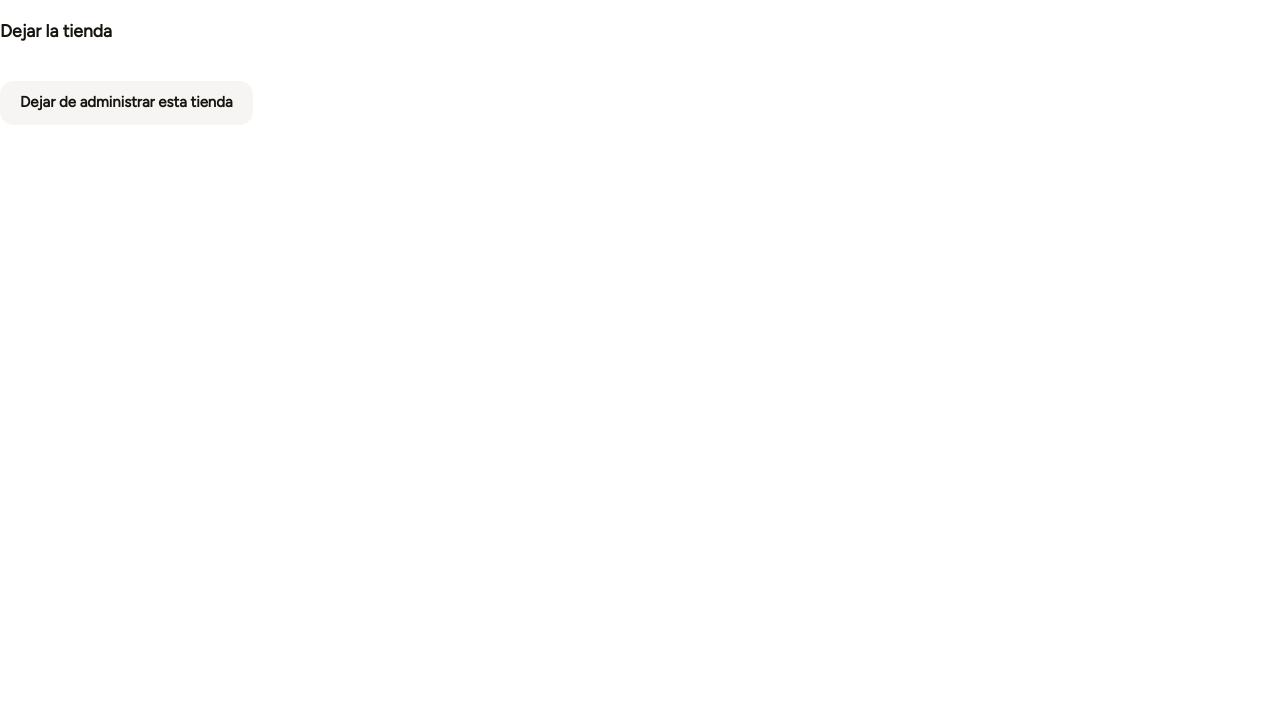
Test: dejar y eliminar la tienda (H36, ADR-040) › no llama al servidor hasta que se confirma, y dice qué se retira
What coordinates should you click on to do the following:
click the button "Dejar de administrar esta tienda"
I would click on:
 (126, 102)
Its box is [0,80,253,124].
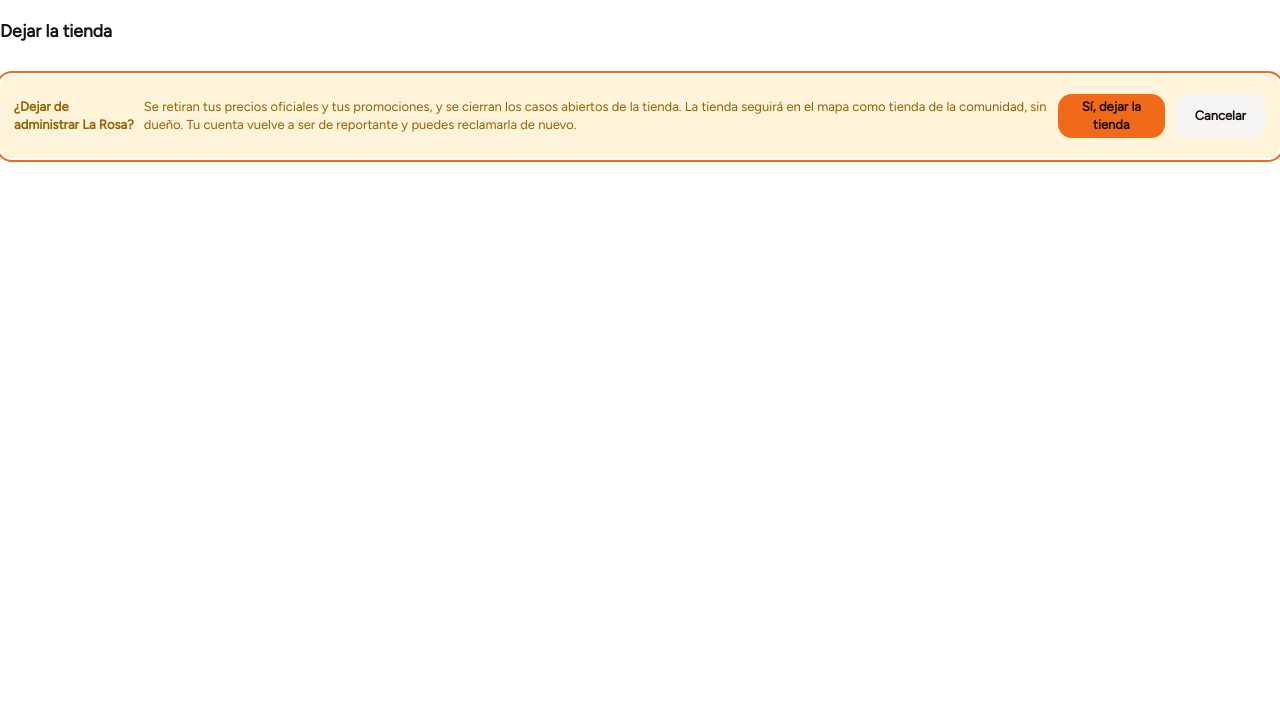
Result: the dialog shows "precios oficiales" at [144,98,682,114]
Result: the dialog shows "promociones" at [144,98,682,114]
Result: the dialog shows "seguirá en el mapa" at [144,98,1047,132]
